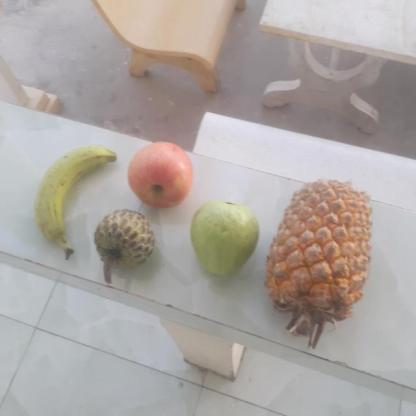annona: (94, 210, 160, 270)
apple: (125, 141, 195, 209)
banana: (36, 146, 121, 249)
guava: (186, 198, 260, 280)
pineapple: (270, 180, 378, 324)
